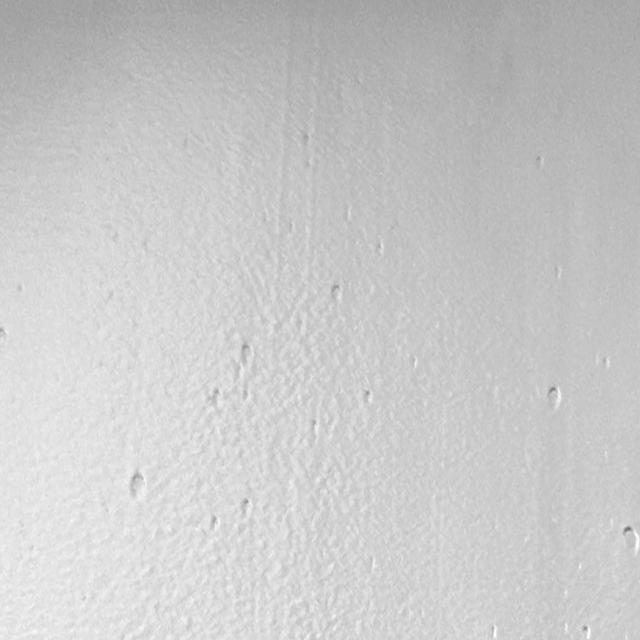pin holes: (128, 469, 152, 504), (618, 526, 639, 559), (542, 386, 564, 413), (238, 343, 258, 369), (237, 496, 256, 520), (328, 280, 346, 304), (208, 388, 226, 412), (373, 239, 389, 261), (361, 390, 378, 408), (0, 324, 12, 348), (550, 263, 564, 283), (209, 515, 224, 533), (407, 354, 420, 374), (308, 417, 321, 437), (486, 624, 501, 640), (534, 154, 547, 172), (599, 356, 612, 373), (580, 624, 592, 640)
